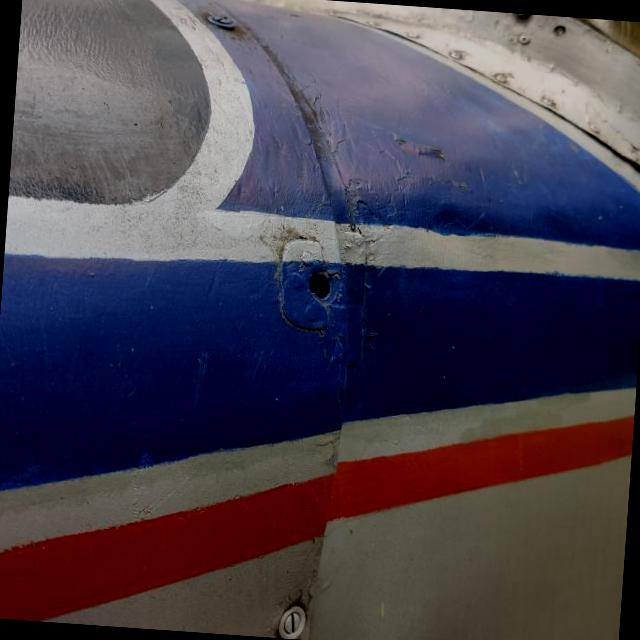Missing Fastener: (306, 266, 338, 302)
